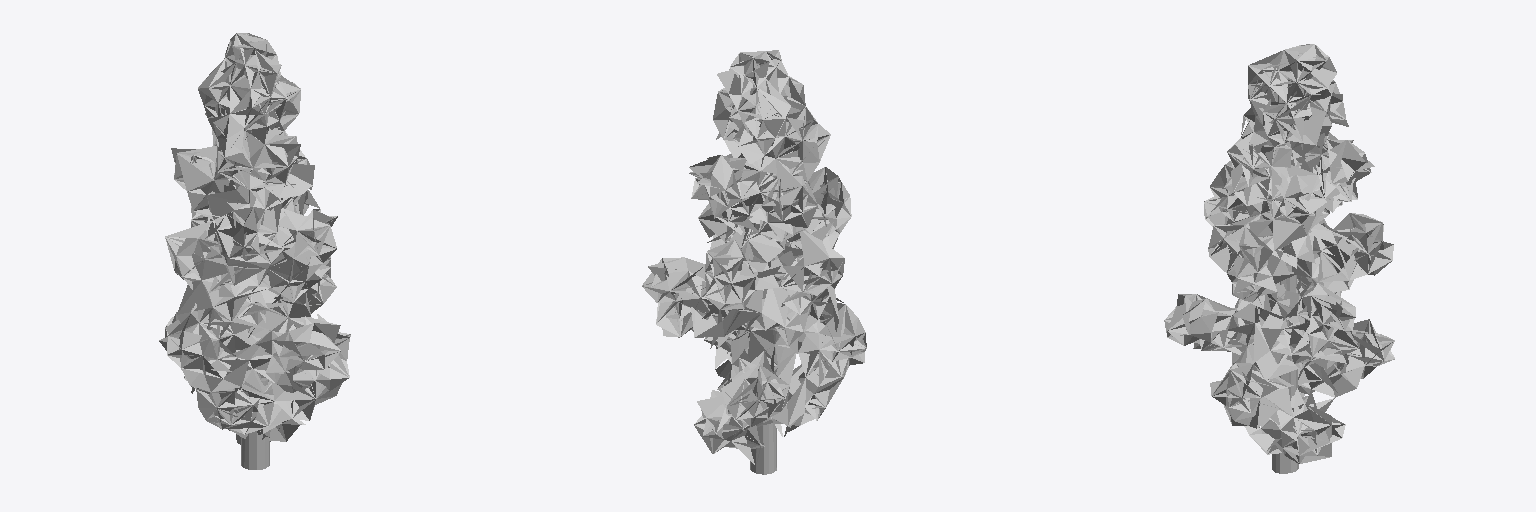
File: customtree.obj
The picture shows the model from 3 angles: view 1: azimuth 30°, elevation 25°; view 2: azimuth 150°, elevation 25°; view 3: azimuth 270°, elevation 25°; orthographic projection.
Visible parts, largest first — view 1: leaves; view 2: leaves; view 3: leaves.
Boxes of the visible parts, x1=… form: leaves: x1=159, y1=33, x2=350, y2=469; leaves: x1=642, y1=50, x2=866, y2=474; leaves: x1=1164, y1=44, x2=1394, y2=473.
Size of the model in its own units: 5 by 10.72 by 5.33.